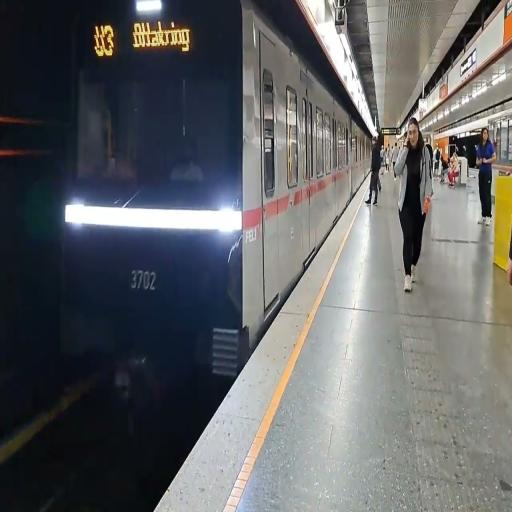X-Wagen: (64, 1, 372, 342)
